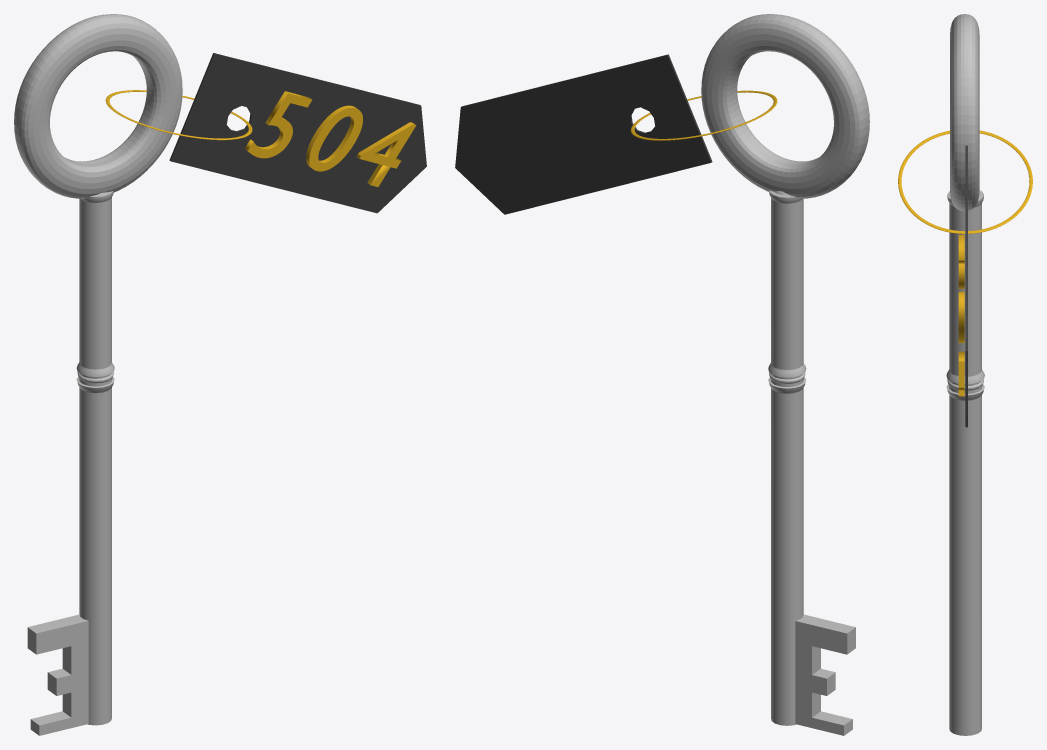
The model's file is key504.fbx.
3 renders of one model, left to right at view 1: azimuth 30°, elevation 25°; view 2: azimuth 150°, elevation 25°; view 3: azimuth 270°, elevation 25°, orthographic.
Parts seen in each view (by area): view 1: key504; view 2: key504; view 3: key504.
Part boxes in pixels (x1=…): key504: x1=14, y1=14, x2=426, y2=735; key504: x1=455, y1=14, x2=869, y2=735; key504: x1=898, y1=14, x2=1032, y2=735.
Bounding box in the file's own units: 8.68 × 14.18 × 2.45.
